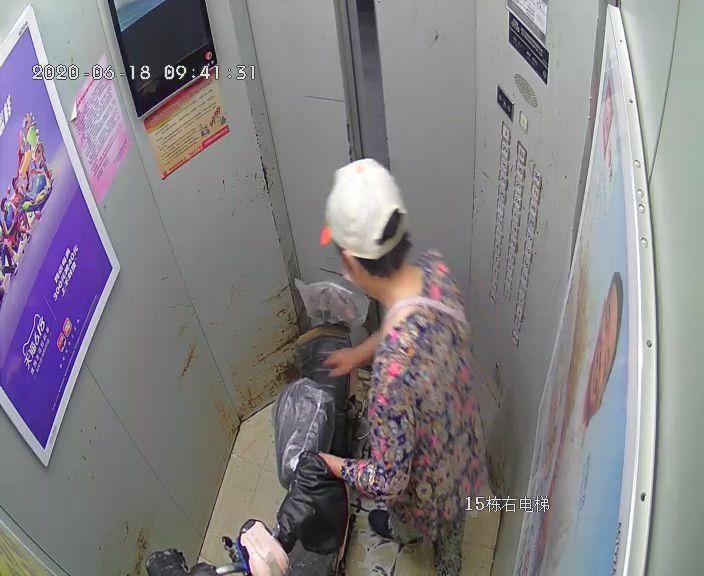Electric-bicycle: (222, 283, 353, 575)
